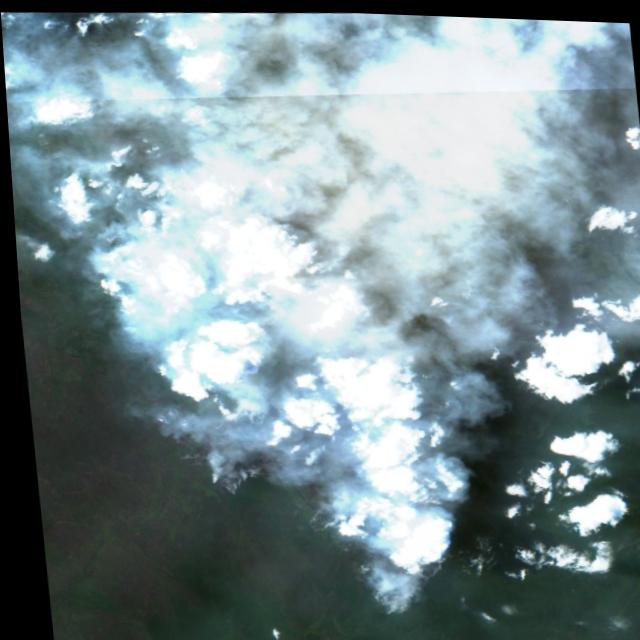fire: (130, 172, 501, 630)
